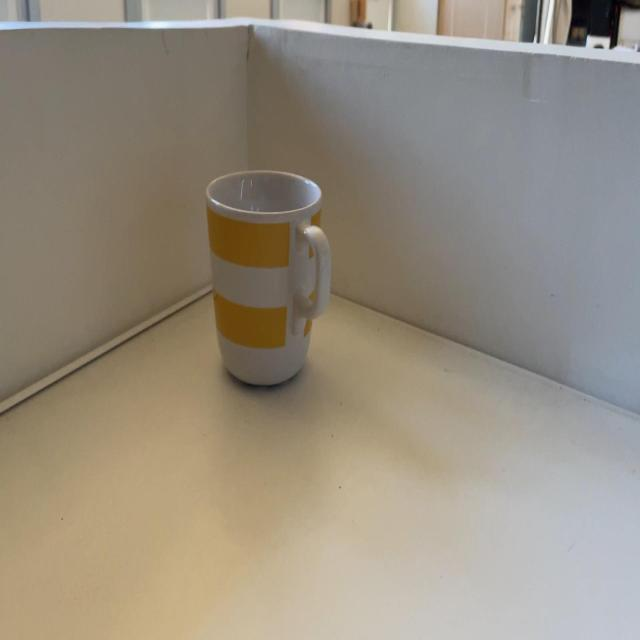cup: (200, 173, 338, 391)
